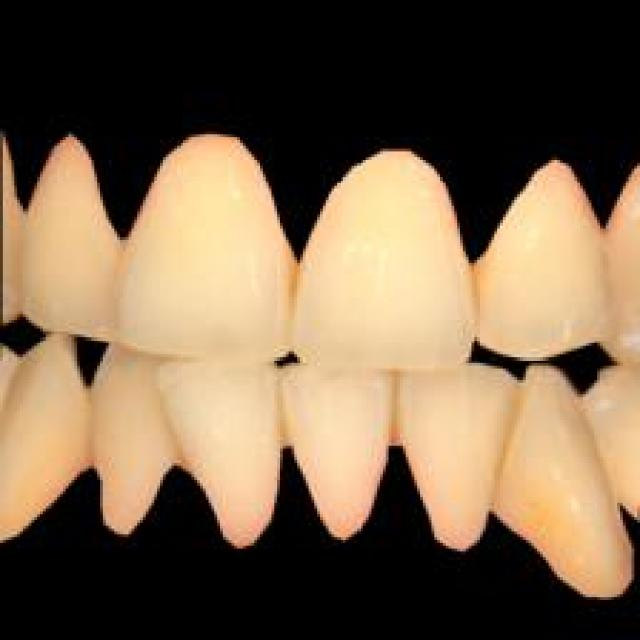cavity: (520, 503, 566, 548), (277, 243, 306, 311), (386, 368, 406, 446), (468, 254, 492, 314), (163, 423, 186, 466)
tooth: (292, 137, 468, 360), (134, 123, 289, 360), (508, 357, 628, 597), (471, 149, 600, 360), (157, 354, 277, 543), (280, 357, 400, 546), (20, 123, 123, 343), (400, 360, 509, 551), (85, 337, 168, 537), (8, 332, 83, 534)
